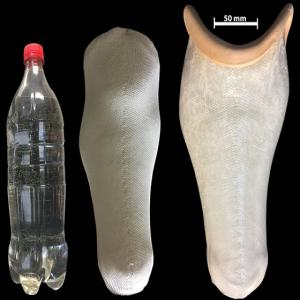Plastic-bottle: (7, 43, 70, 297)
